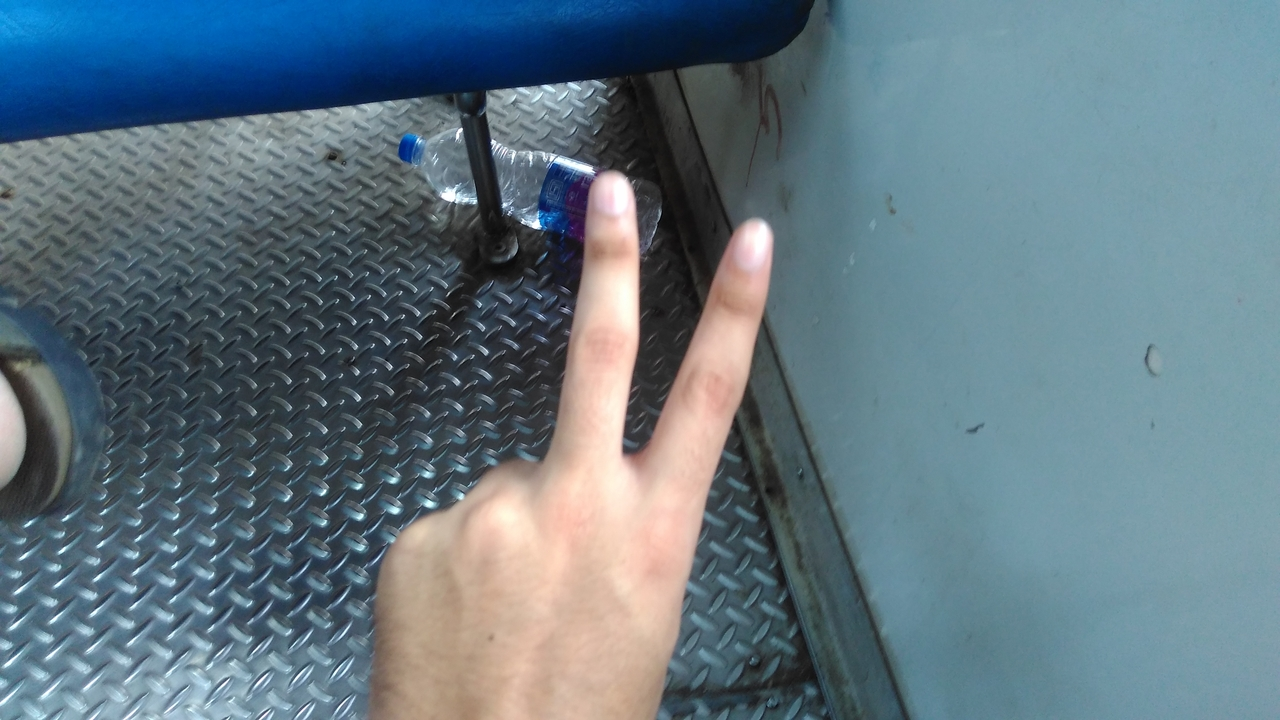fingertip: (580, 162, 644, 238), (716, 210, 782, 278)
